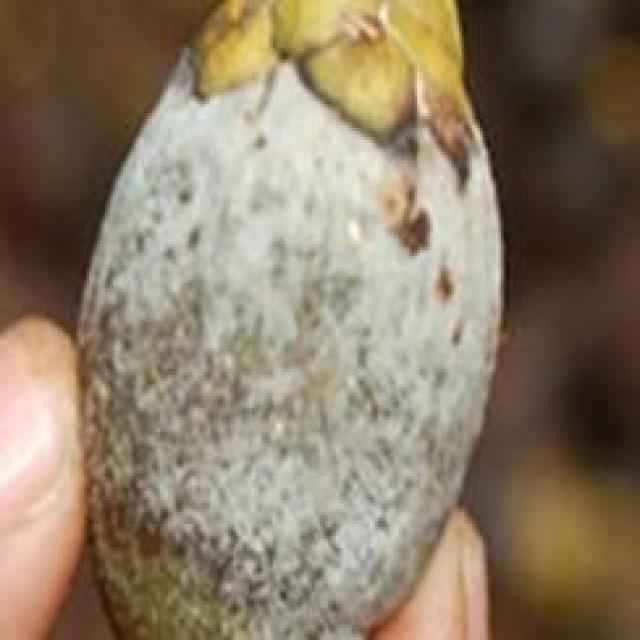damaged: (79, 0, 504, 637)
